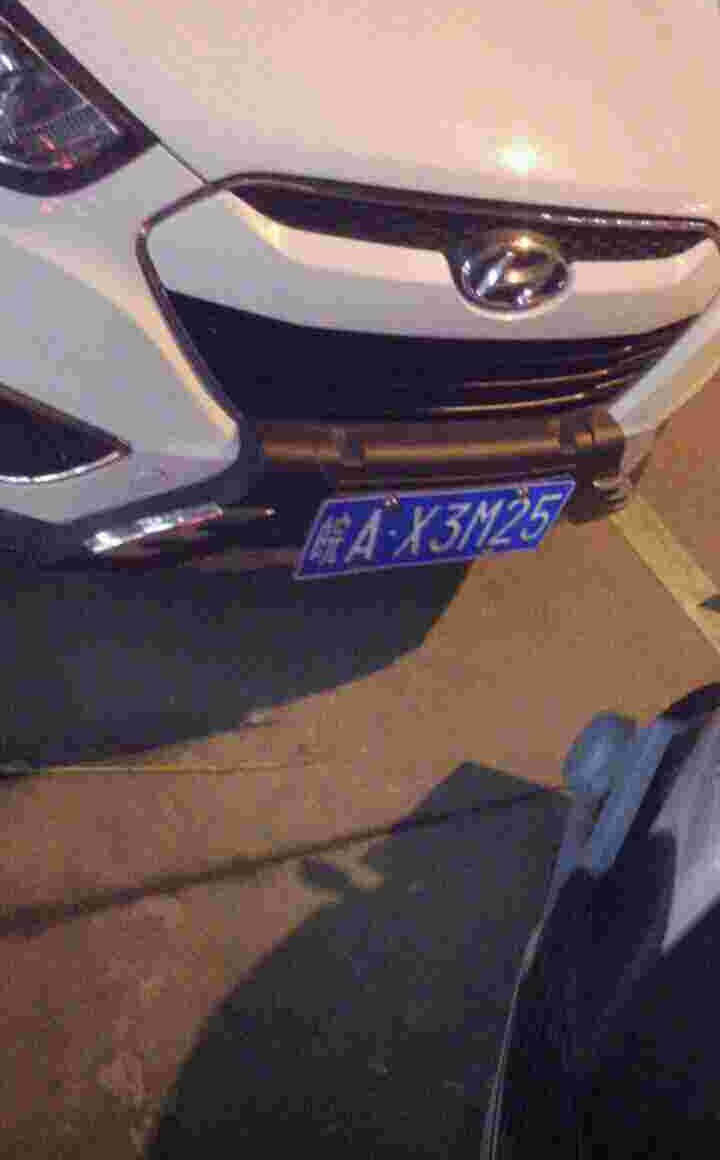license_plate: (301, 482, 580, 583)
